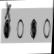correct: (29, 18, 38, 40)
not correct: (3, 2, 12, 40)
